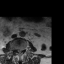CCS_normal: (18, 47, 20, 54)
LFS_stenosis: (22, 47, 24, 51)
LLS_normal: (20, 47, 22, 53)
RFS_severe_stenosis: (15, 47, 17, 51)
RLS_normal: (17, 47, 18, 53)
